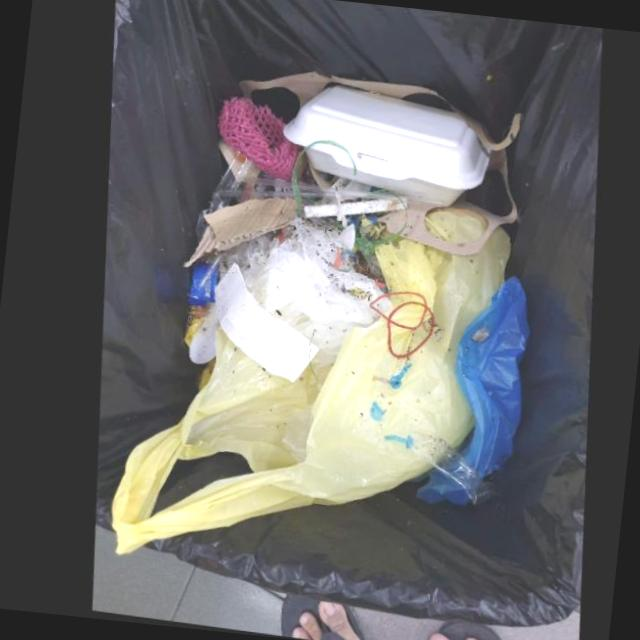carton: (179, 199, 294, 270)
giay: (210, 265, 314, 384)
tui_ni_long: (102, 229, 508, 558), (411, 279, 526, 508)
xop: (281, 87, 489, 208)
